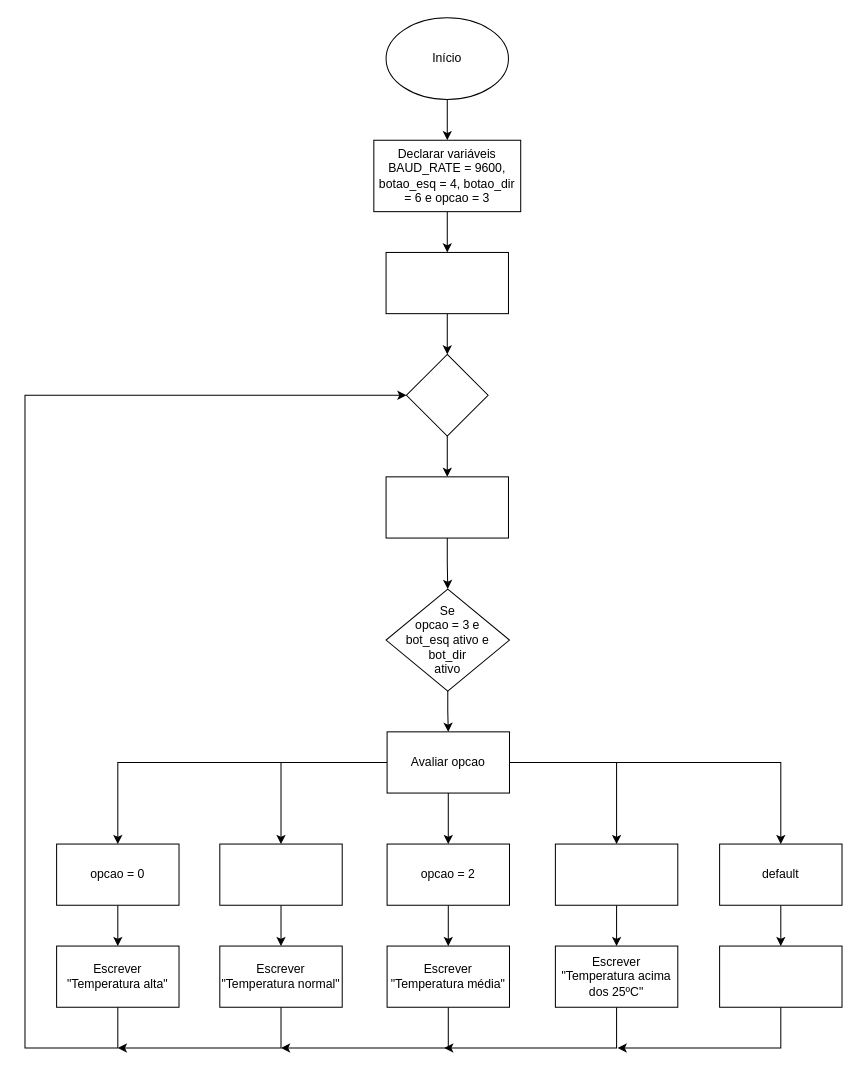
Some shapes in this 860 by 1074 pixel diagram are drawn without their labels. The centre of each missing label's shape, as x and y in pixels:
Escrever "Opção não existe": (x=780, y=976)
Inicializar monitor serial com variável BAUD_RATE e botões como entrada: (x=446, y=282)
Ler estado dos botões: (x=446, y=507)
opcao = 1: (x=280, y=874)
opcao = 3: (x=616, y=874)
Repetir sempre: (x=446, y=394)
